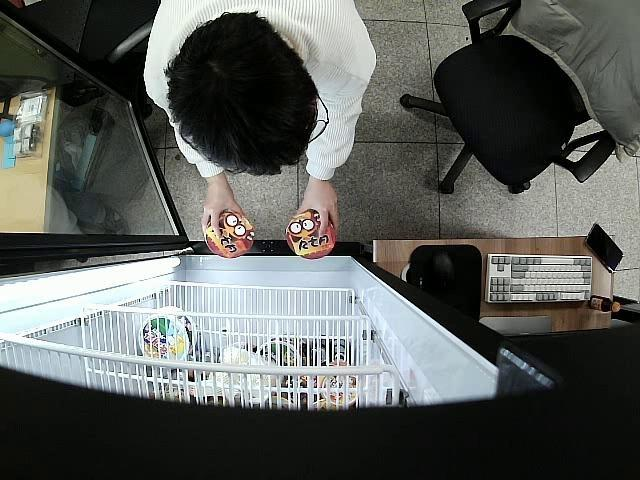05_nuguri_L: (285, 213, 336, 262), (205, 212, 254, 258)
